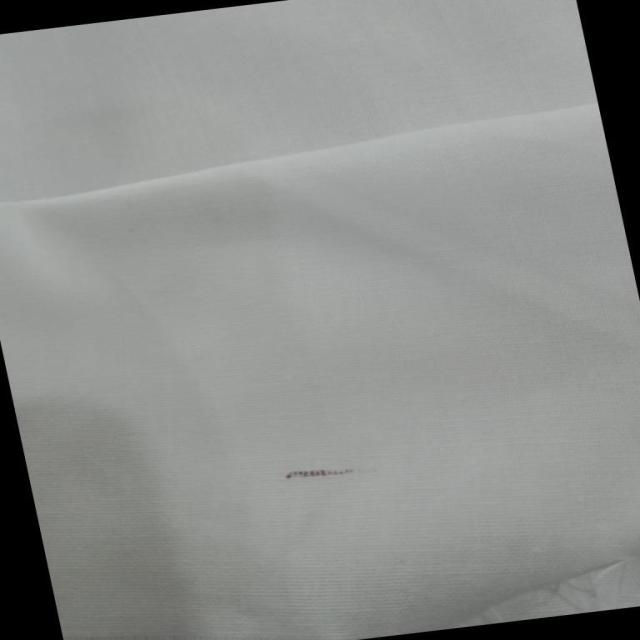contamination: (266, 451, 374, 497)
